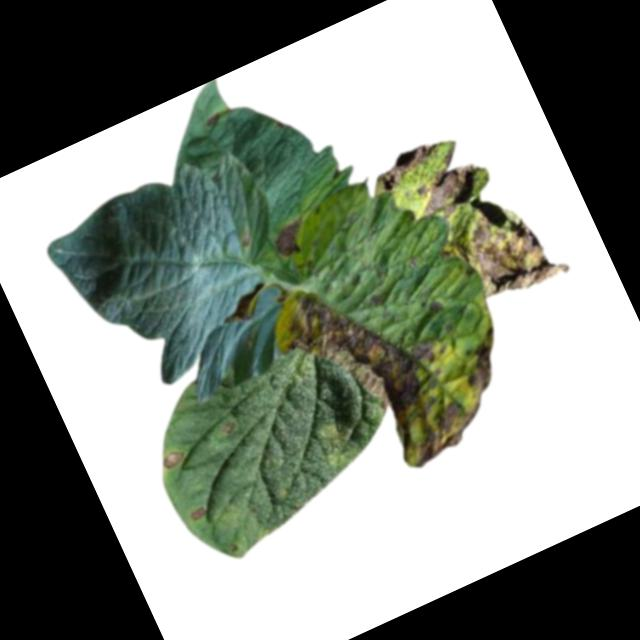Early_blight: (264, 224, 533, 499), (413, 139, 572, 315), (366, 131, 447, 192), (266, 219, 312, 264), (160, 445, 190, 472), (202, 110, 224, 132), (217, 419, 240, 440), (237, 230, 256, 251), (188, 506, 208, 523)
